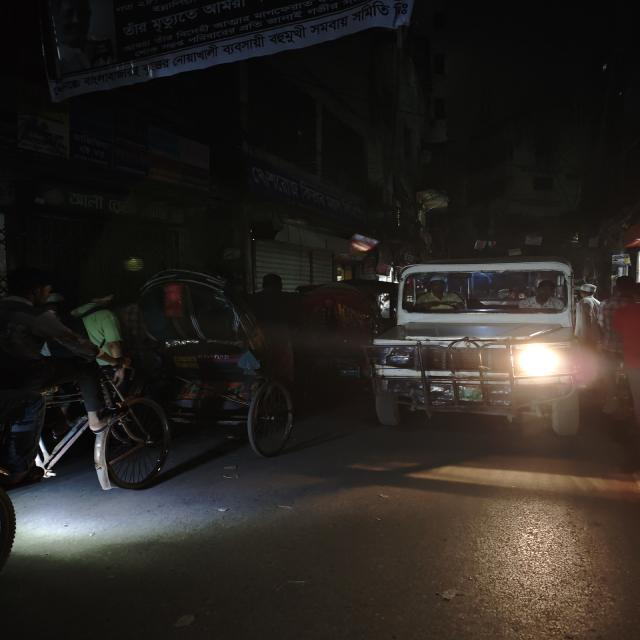human_hauler: (371, 255, 615, 432)
rickshaw: (116, 254, 301, 496), (289, 271, 377, 395)
